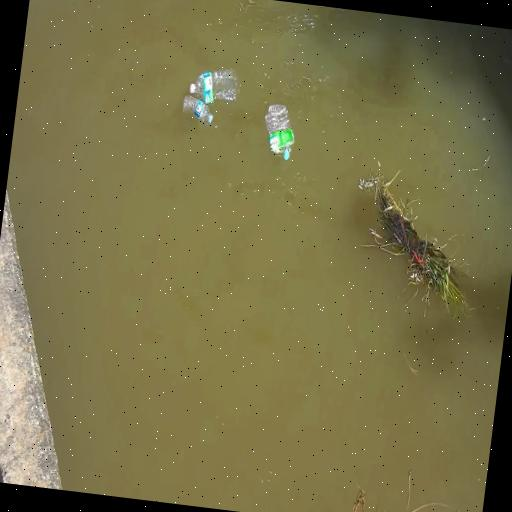plastic: (189, 69, 237, 104), (265, 104, 293, 160), (182, 95, 212, 123)
twig: (360, 163, 468, 310), (409, 502, 448, 512), (351, 486, 365, 512), (406, 471, 411, 512)
